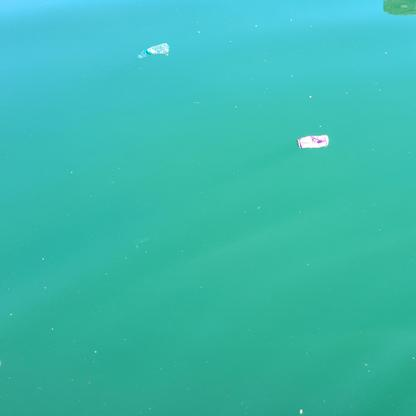can: (298, 135, 330, 148)
plastic bottle: (136, 42, 170, 59)
